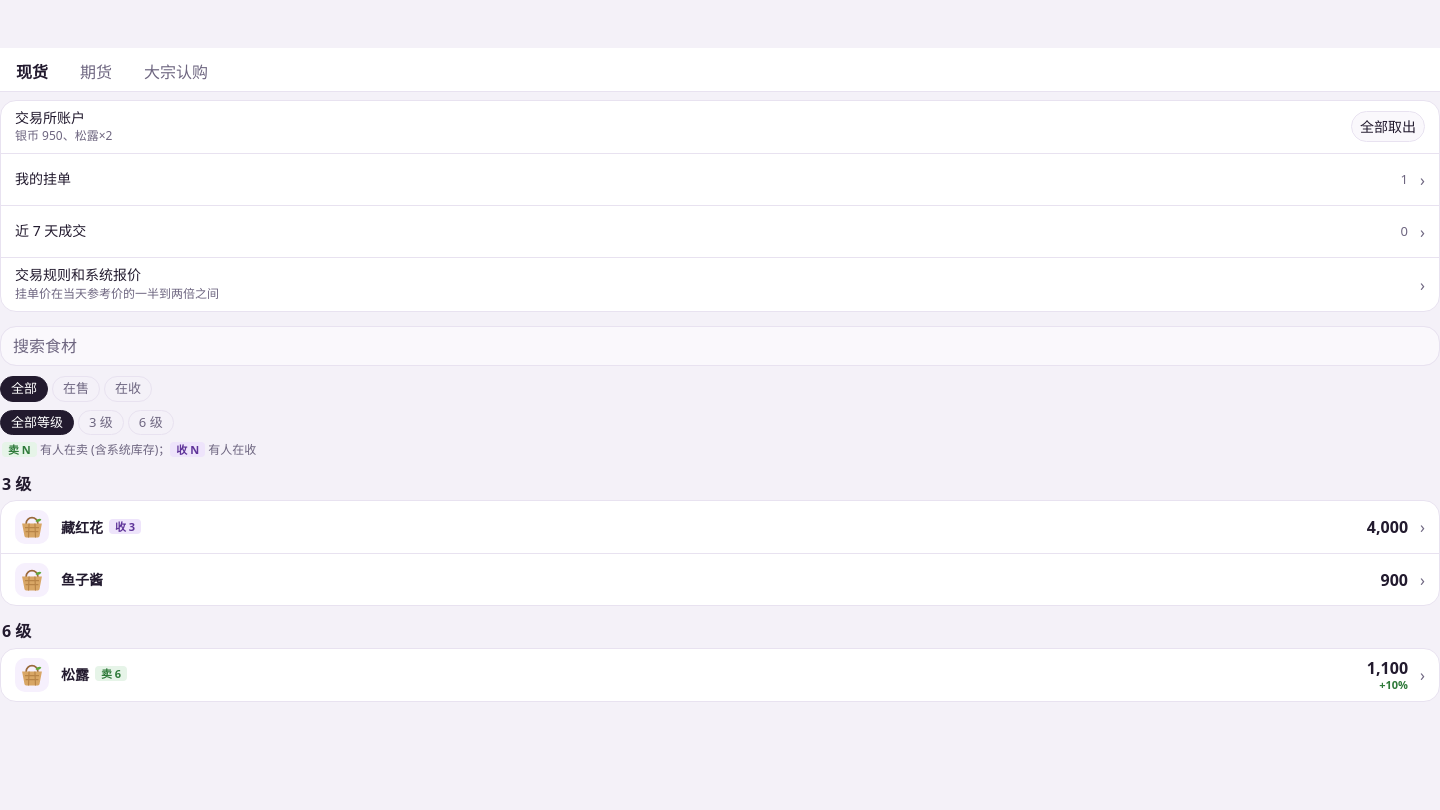
Test: ExchangeView（156-1 设计 §8） › 不满足门槛时表单禁用并写明原因
This screenshot has width=1440, height=810.
Click the button with test id "ex-food-11": point(32, 675) [1,649,1439,701]
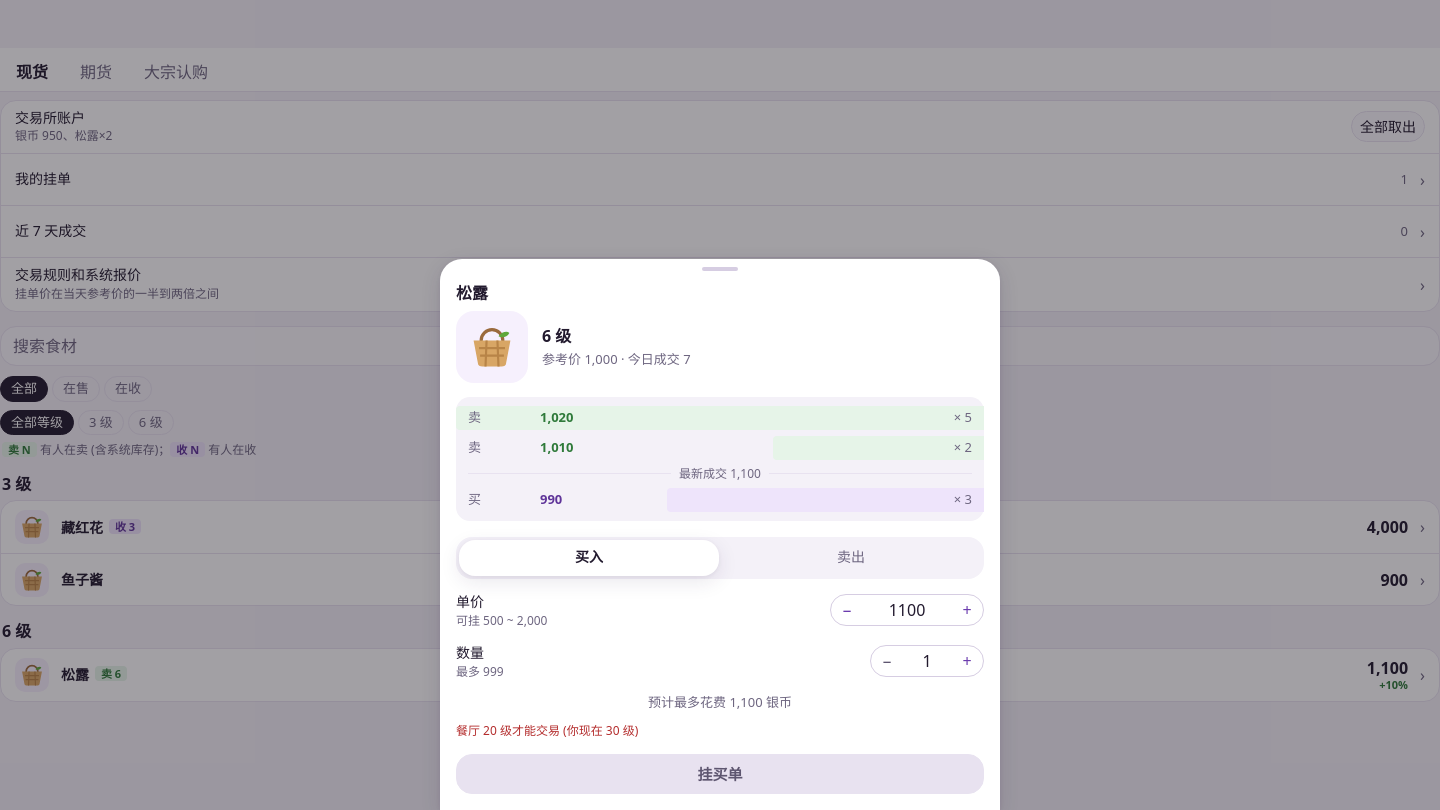
Expected: the text "餐厅 20 级才能交易" is shown, [12,60,210,78]
Result: the button with test id "ex-submit" is disabled at [456,754,984,794]
